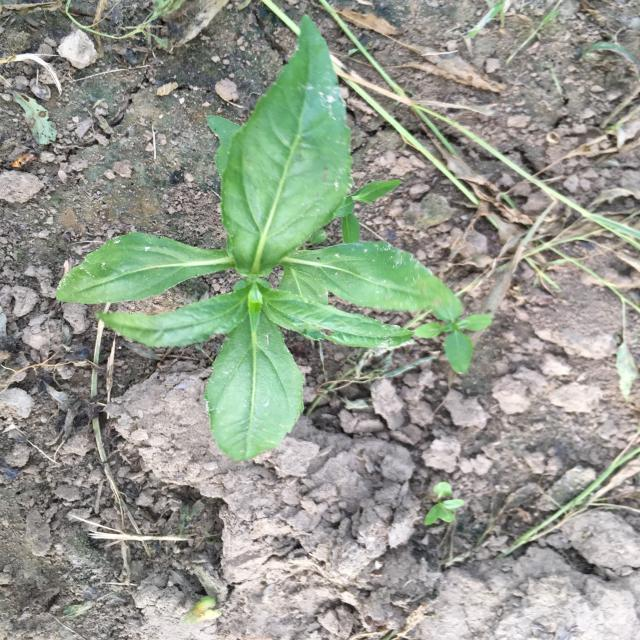Eclipta: (55, 15, 444, 462), (415, 284, 493, 375)
